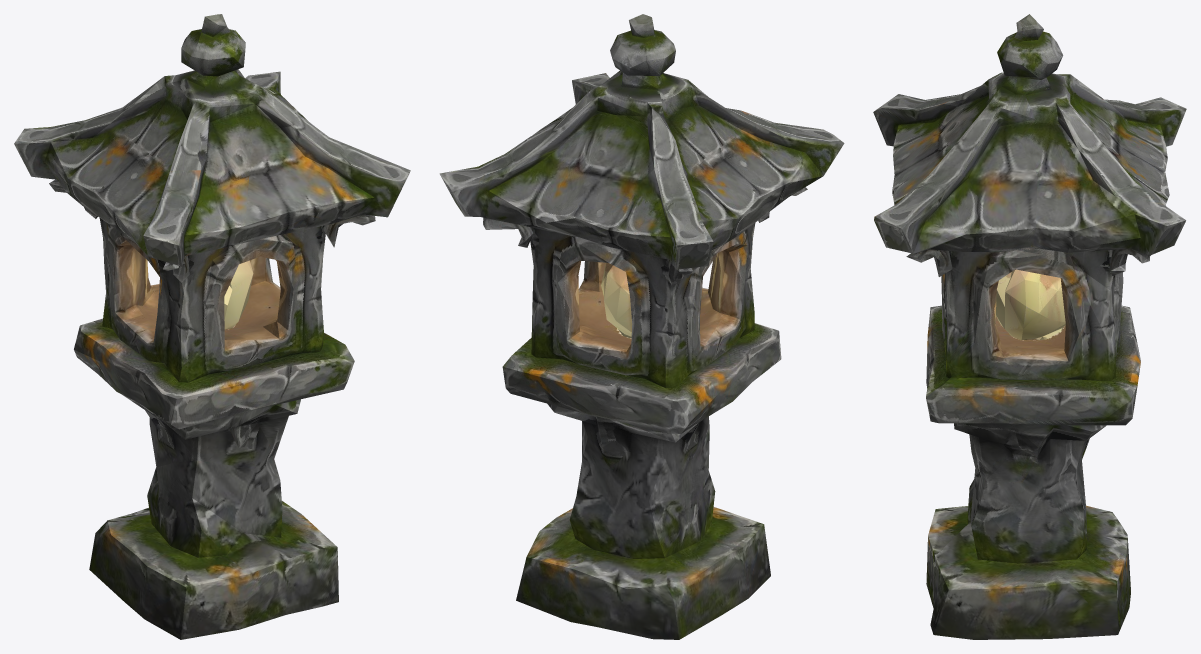
Rendered from stone_lantern.glb.
3 renders of one model, left to right at view 1: azimuth 30°, elevation 25°; view 2: azimuth 150°, elevation 25°; view 3: azimuth 270°, elevation 25°, orthographic.
Parts seen in each view (by area): view 1: Mesh; view 2: Mesh; view 3: Mesh.
Part boxes in pixels (left/top/right/bottom): Mesh: left=14, top=14, right=410, bottom=639; Mesh: left=439, top=14, right=844, bottom=639; Mesh: left=873, top=14, right=1186, bottom=639.
Size of the model in its own units: 0.4941 by 1 by 0.4914.
1 material, 1 textured.
